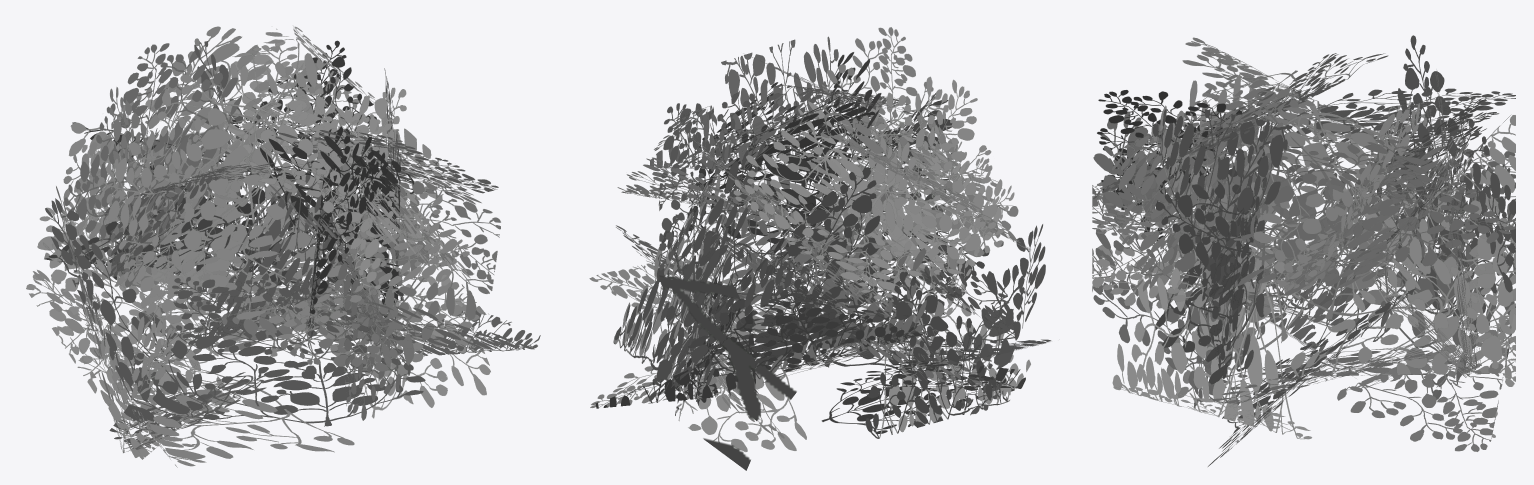
File: shrub_1.glb
The picture shows the model from 3 angles, left to right: view 1: azimuth 30°, elevation 25°; view 2: azimuth 150°, elevation 25°; view 3: azimuth 270°, elevation 25°; orthographic projection. The views are drawn at different scales.
Visible parts, largest first — view 1: shrub.002; view 2: shrub.002; view 3: shrub.002.
Boxes of the visible parts, left/top/right/bottom form: shrub.002: left=26, top=26, right=540, bottom=467; shrub.002: left=589, top=27, right=1051, bottom=470; shrub.002: left=1092, top=35, right=1515, bottom=466.
Bounding box in the file's own units: 1.85 × 1.72 × 1.91.
Materials: 1 (1 with a texture image).
